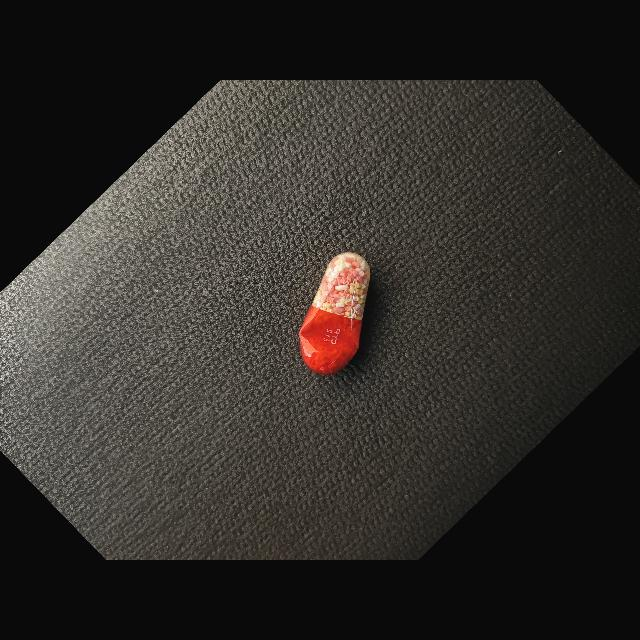Defective Capsule: (299, 252, 370, 375)
